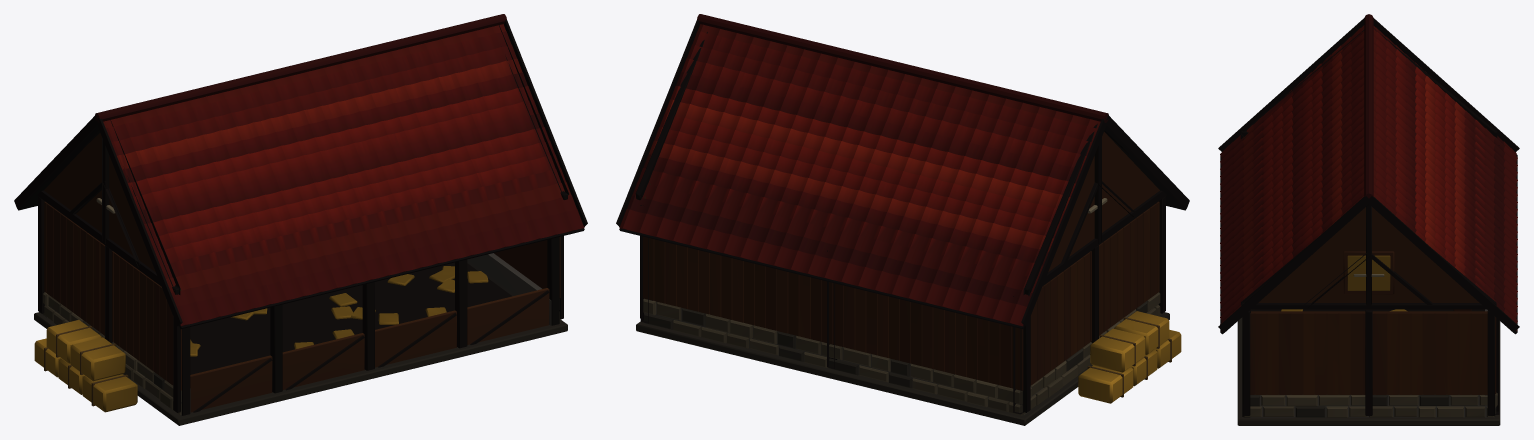
File: Estabulo4.fbx
The picture shows the model from 3 angles, left to right: view 1: azimuth 30°, elevation 25°; view 2: azimuth 150°, elevation 25°; view 3: azimuth 270°, elevation 25°; orthographic projection. The views are drawn at different scales.
Visible parts, largest first — view 1: Estabulo4; view 2: Estabulo4; view 3: Estabulo4.
Part boxes in pixels (x1,y1,x2,y2): Estabulo4: [14, 14, 587, 425]; Estabulo4: [616, 14, 1189, 425]; Estabulo4: [1218, 14, 1519, 425].
Size of the model in its own units: 12.81 by 7.26 by 8.37.
